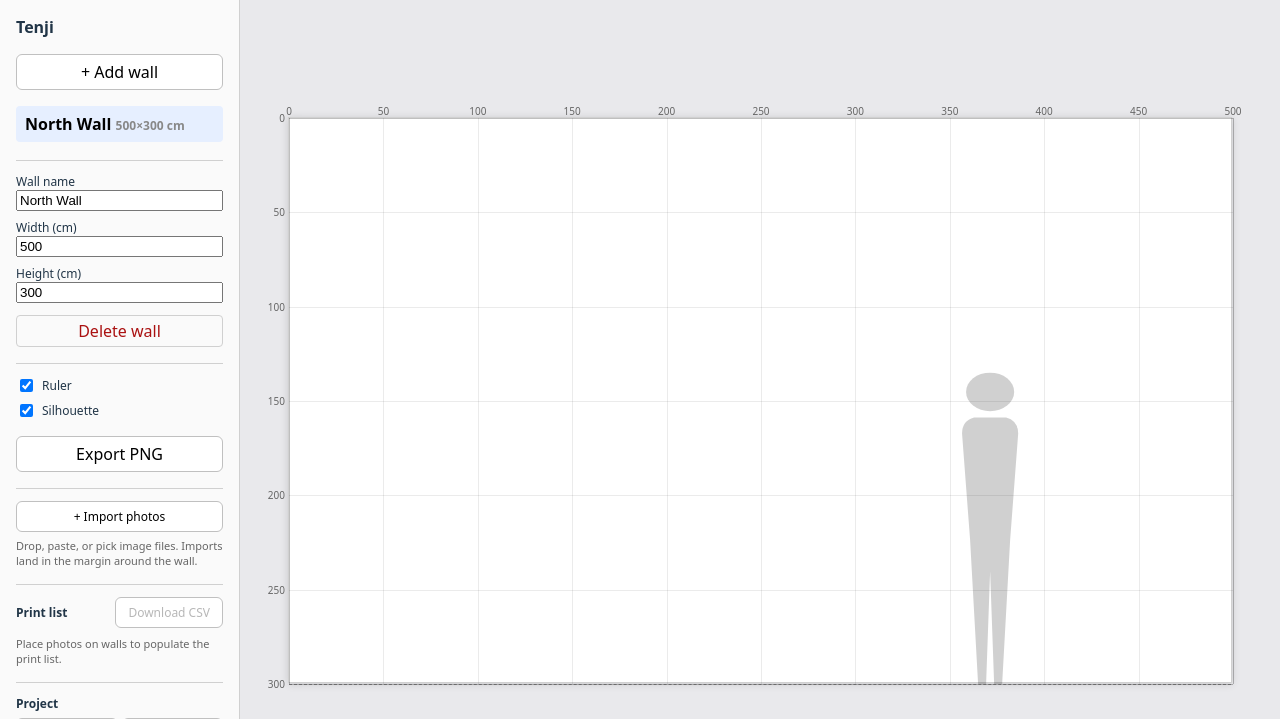
App › deletes the active wall and shows the next one
Expected: the button "North Wall 500×300 cm" is shown, [16,106,223,142]
Click the button "+ Add wall". click: (120,72)
box: [16,54,223,90]
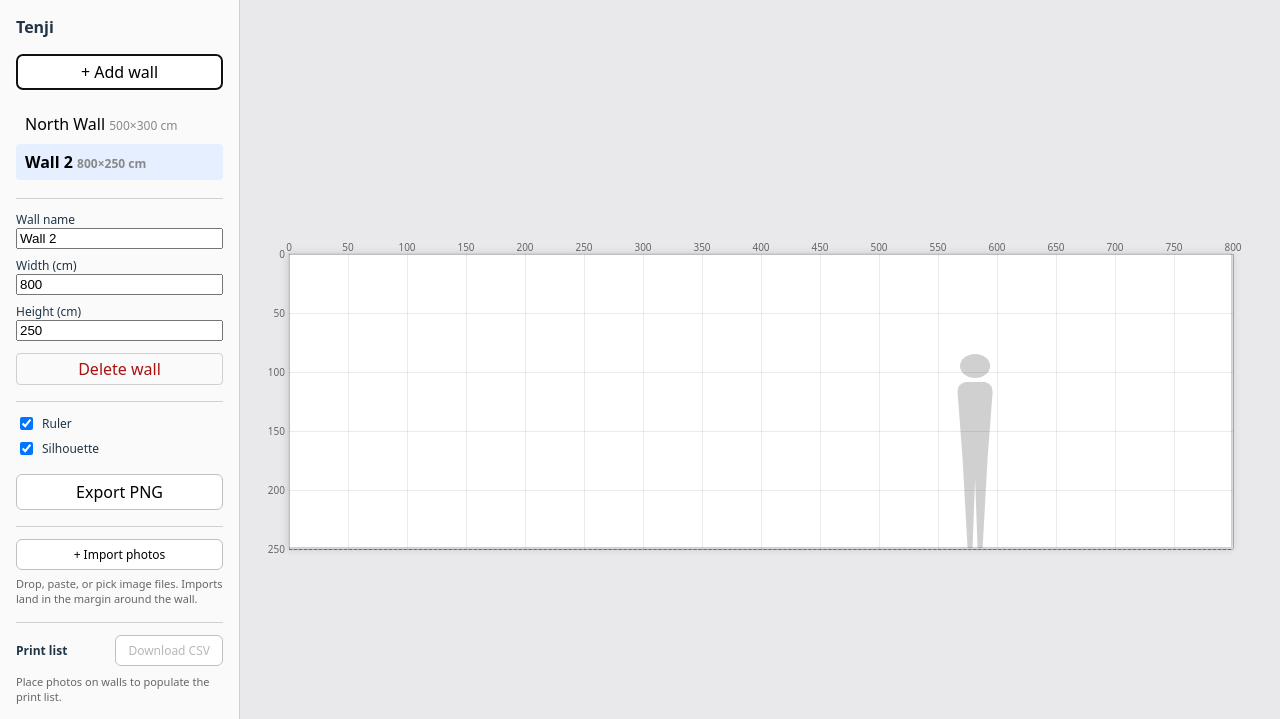
Now the button "Wall 2 800×250 cm" is shown, box [16,144,223,180]
Click the button "Delete wall". click: (120,369)
box: [16,353,223,385]
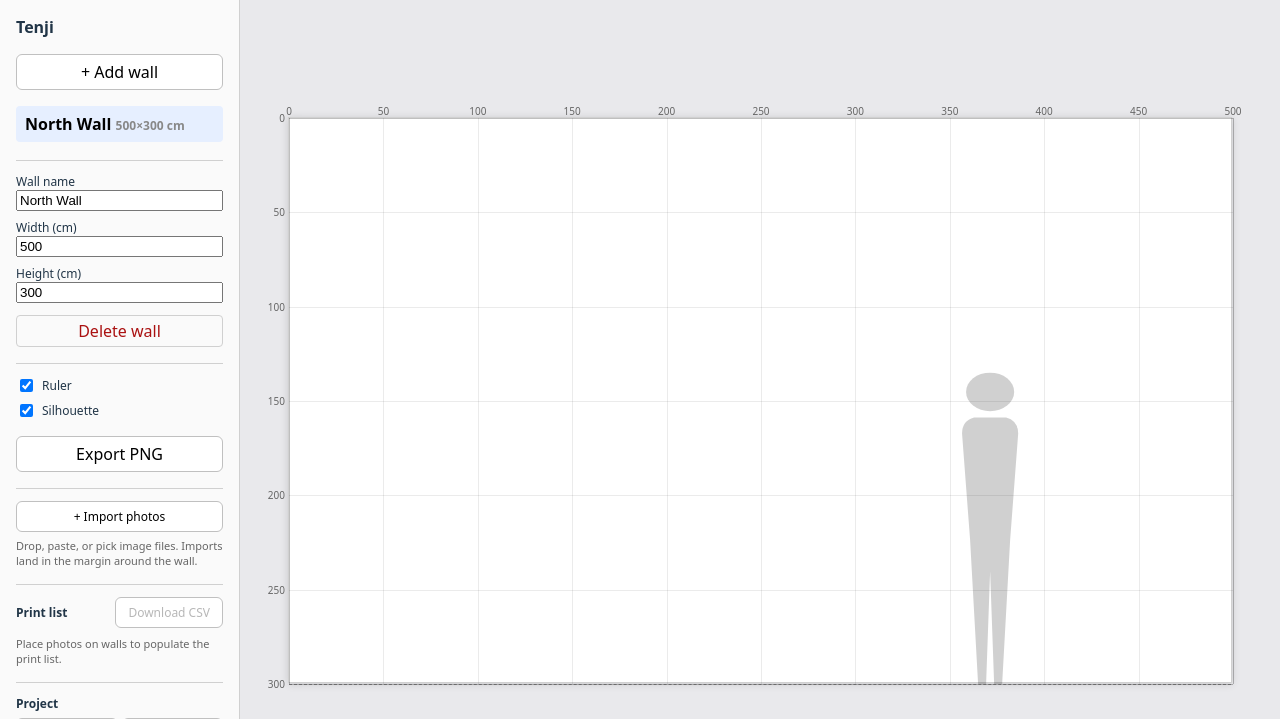
Now the button "Wall 2" is gone
